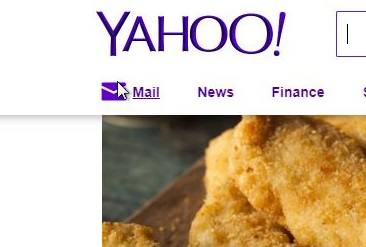cursor: (114, 79, 131, 101)
